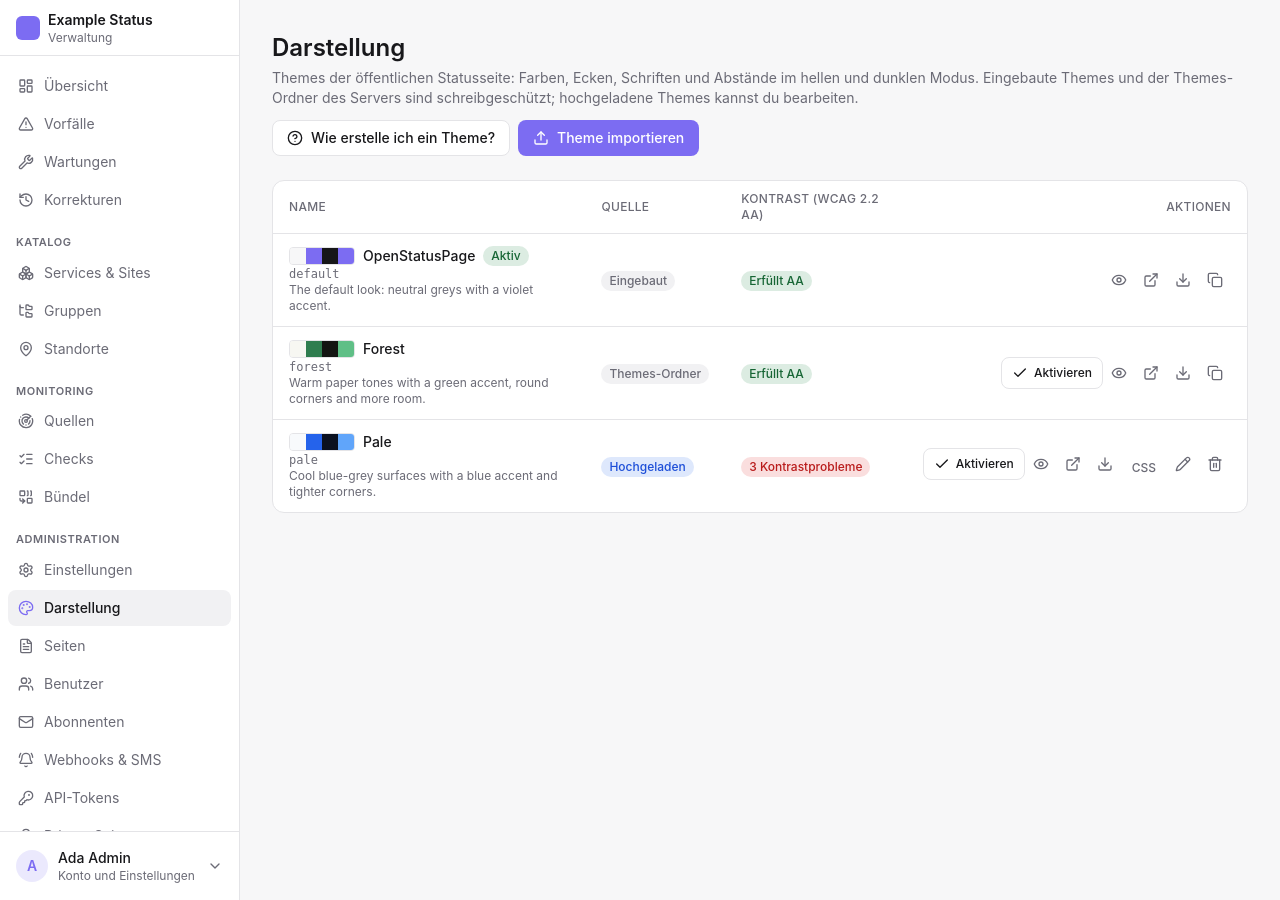
Test: Appearance (de) › activating a theme that fails AA asks first and then sends the confirmation
This screenshot has width=1280, height=900.
Later steps or results of the test are not shown.
Click the button "Aktivieren" next to "3 Kontrastprobleme" at (974, 464), box 923,448 -> 1025,480
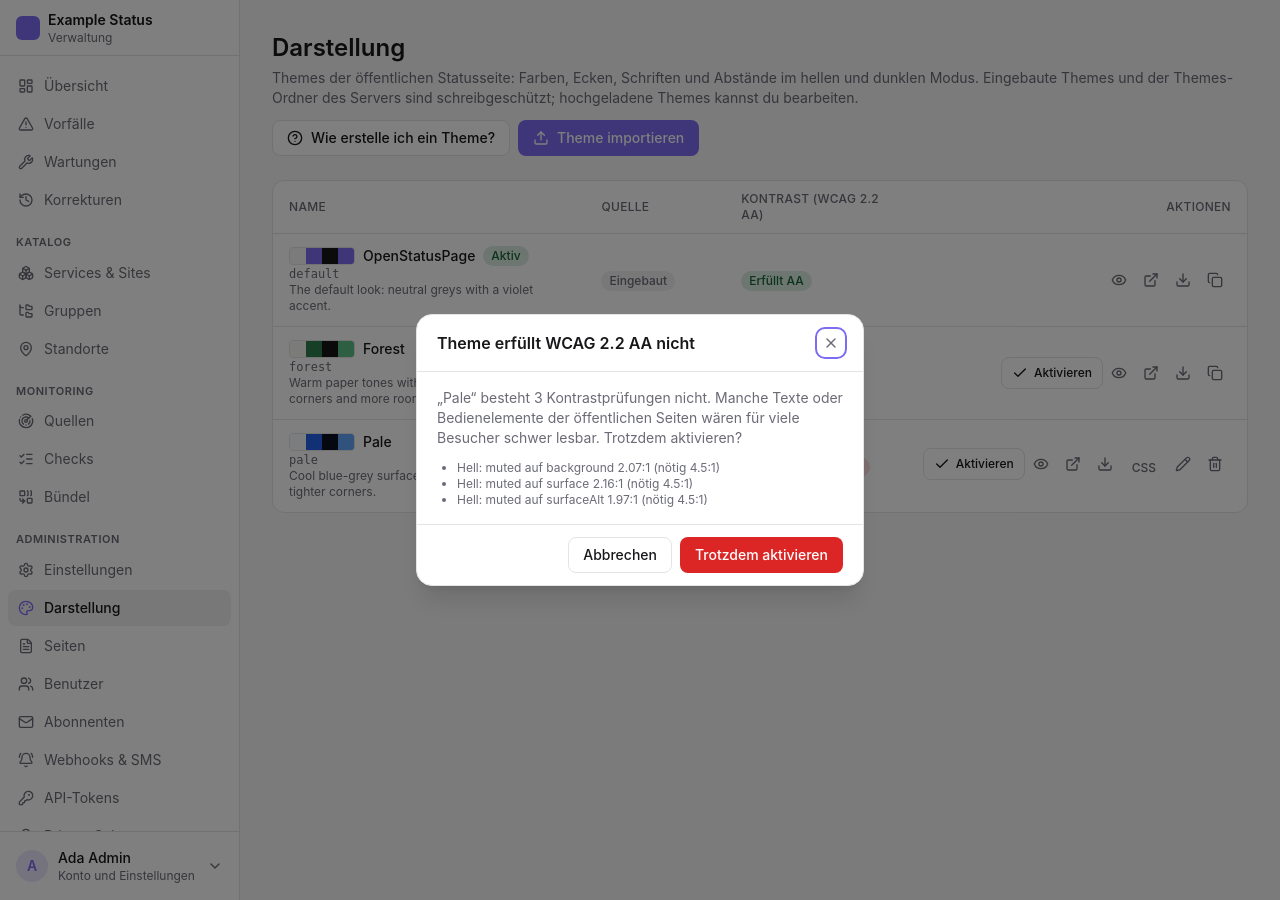
expect the dialog shows "Theme erfüllt WCAG 2.2 AA nicht": met, box 437,333 -> 695,353
expect the button "Trotzdem aktivieren" is shown: met, box 680,537 -> 843,573
